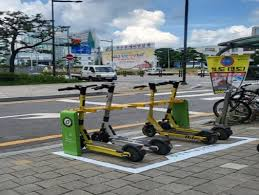kick_handler: (59, 84, 98, 93), (158, 80, 184, 86), (94, 83, 116, 90)
kick_wheel: (124, 143, 143, 162), (152, 136, 171, 154), (215, 124, 233, 141), (201, 129, 217, 143), (92, 132, 108, 143), (142, 123, 155, 136)
